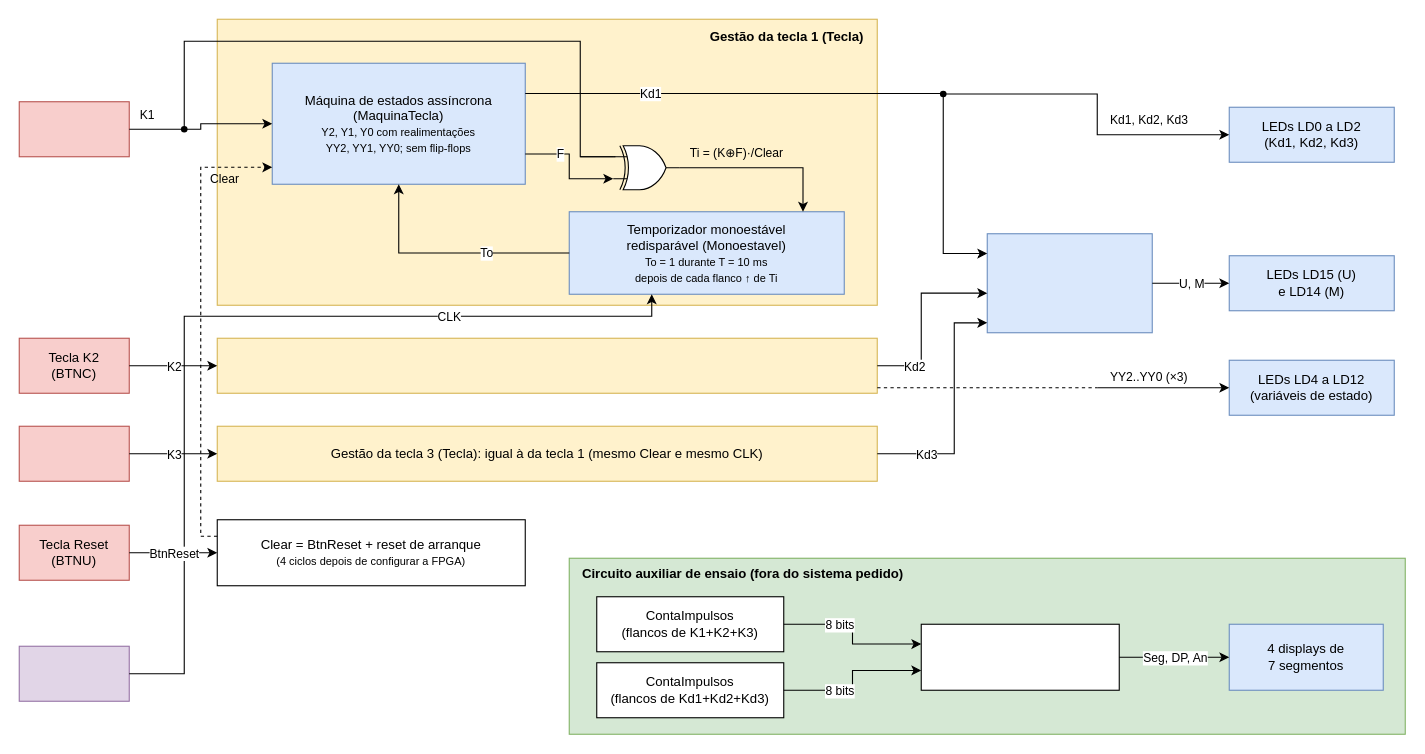
Image size: 1425x754. Some labels were removed from this diagram. Each missing label, with the centre of its shape:
"ControloDisplays (sistema do 1.º trabalho)" belongs at (x=1019, y=656).
"Gestão da tecla 2 (Tecla): igual à da tecla 1 (mesmo Clear e mesmo CLK)" belongs at (x=546, y=365).
"Oscilador 100 MHz (W5)" belongs at (x=73, y=673).
"Tecla K1 (BTNL)" belongs at (x=73, y=129).
"Tecla K3 (BTNR)" belongs at (x=73, y=453).
"Validação (Validacao) U = uma só tecla M = mais do que uma" belongs at (x=1069, y=283).
